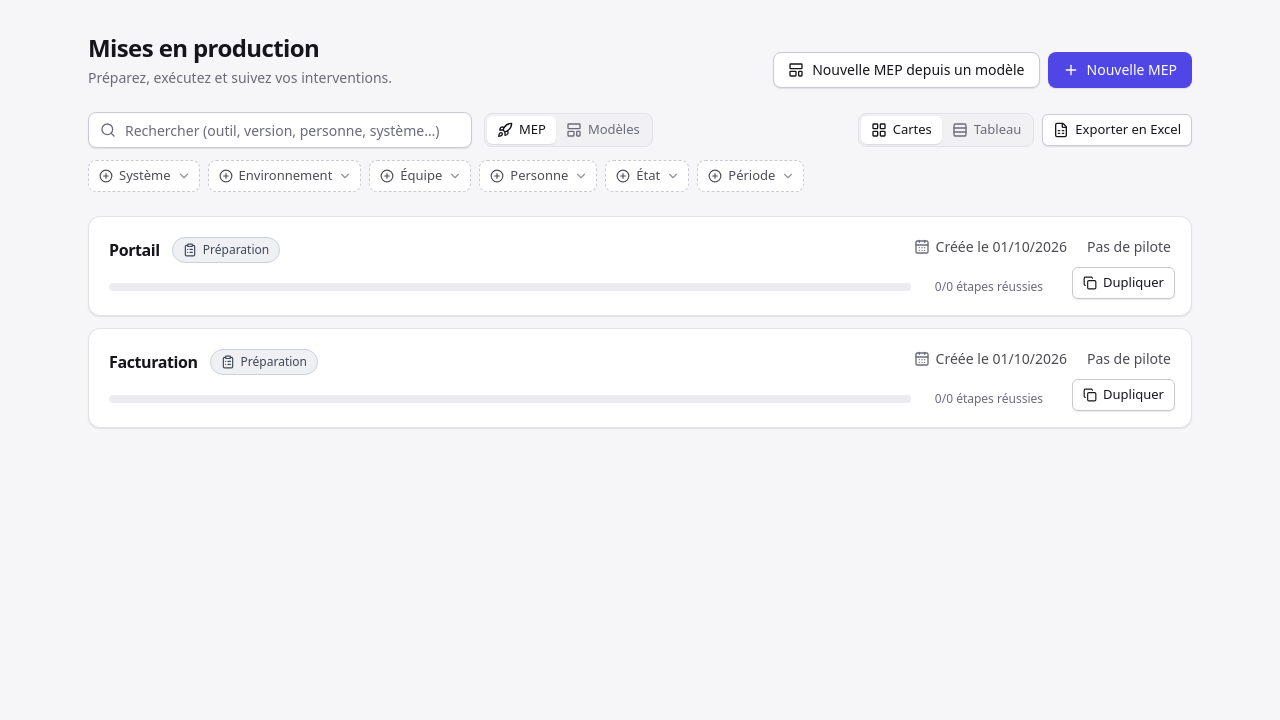
Test: ListeMepPage › filtre les MEP par équipe et trouve une personne par l’un de ses comptes reliés
Check: the link "Facturation" is shown, box [109,350,198,374]
Click the button "Équipe" at (420, 176), box [370,161,470,191]
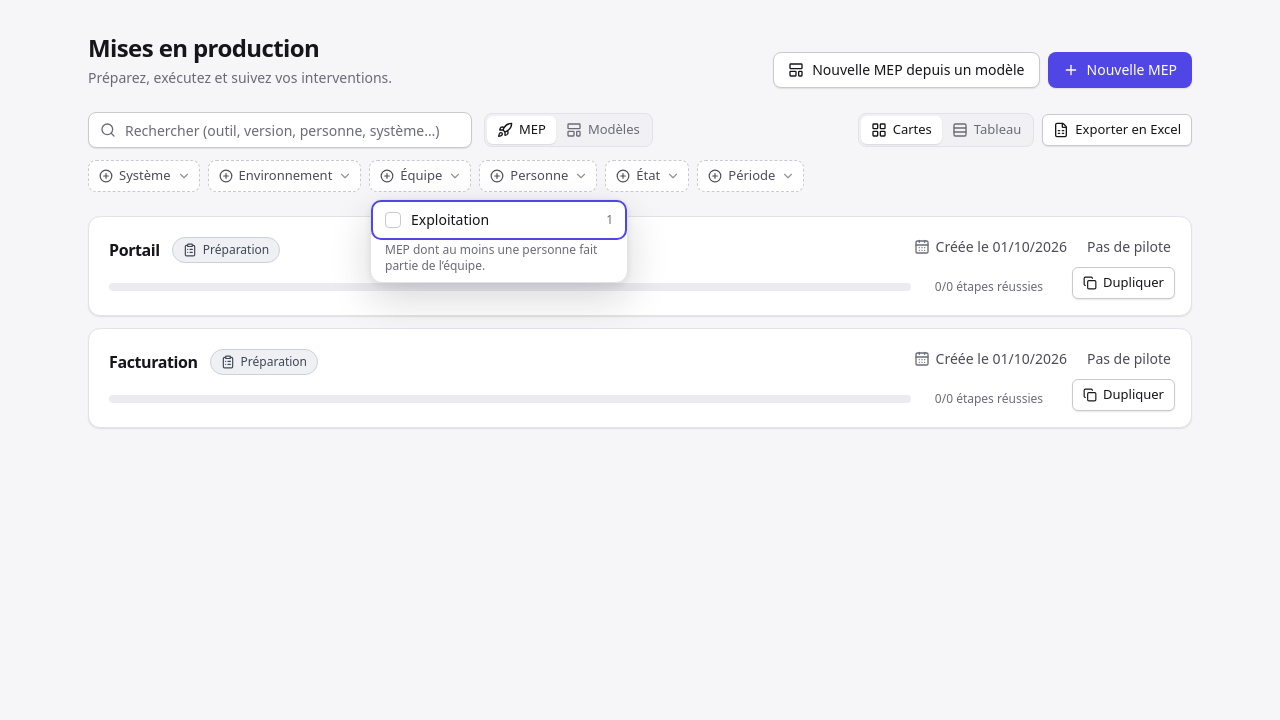
Click the menu item "Exploitation 1" at (499, 220), box [375,204,623,236]
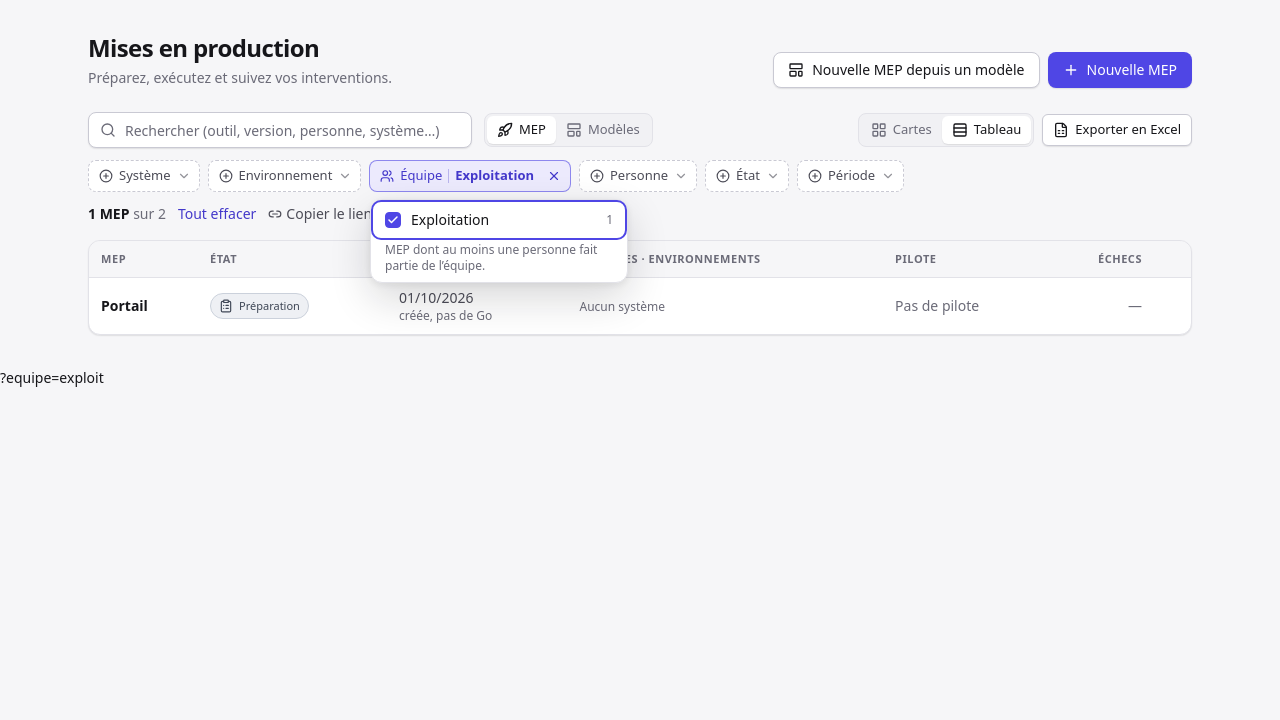
Check: the link "Portail" is shown, box [101,296,148,316]
Check: the link "Facturation" is gone
Check: the text named "adresse" reads "?equipe=exploit", box [0,368,104,387]
Press Escape
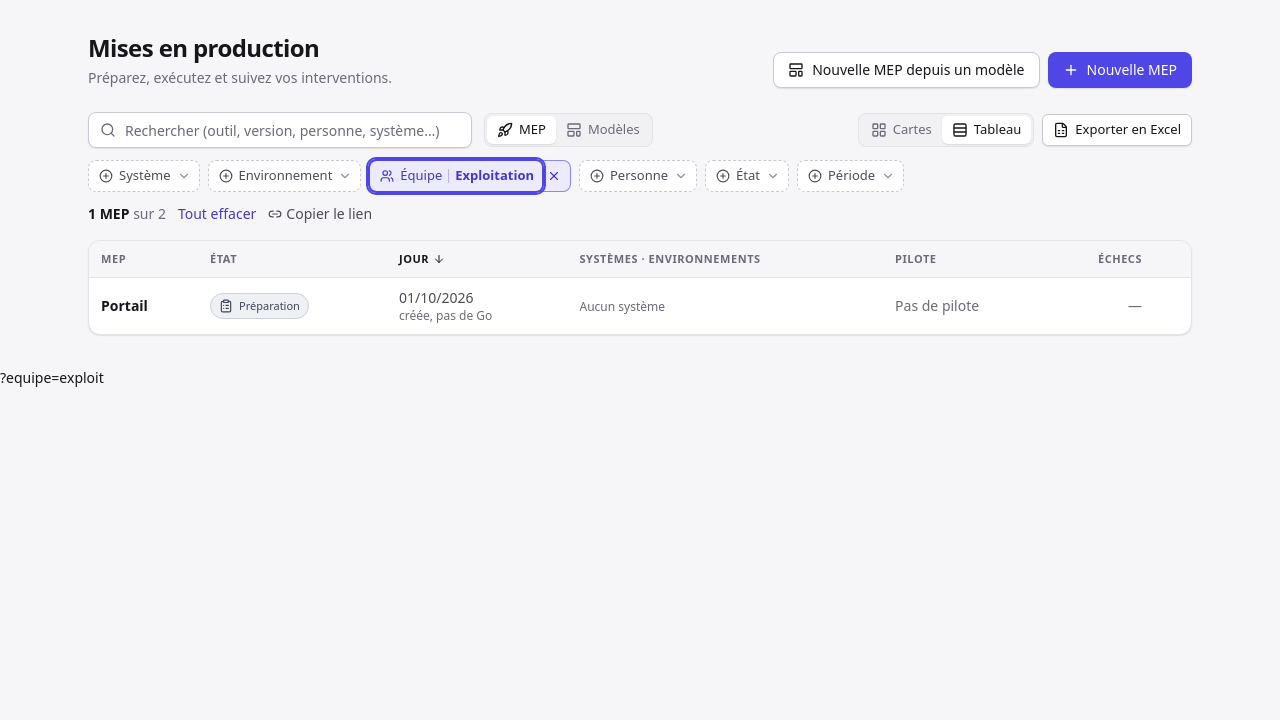
Click the button named "Effacer le filtre Équipe" at (554, 176), box [542,164,566,188]
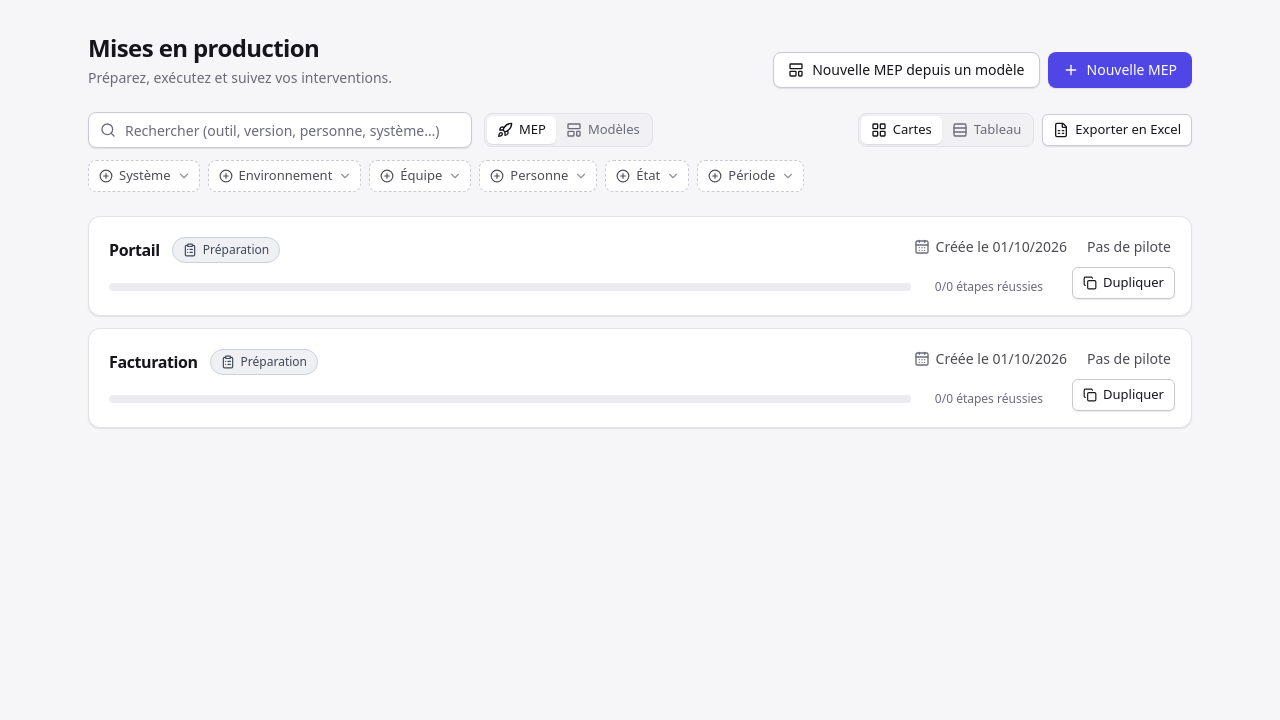
Type "jean.dupont" into the field named "Rechercher une MEP" at (280, 130), box [88,112,472,148]
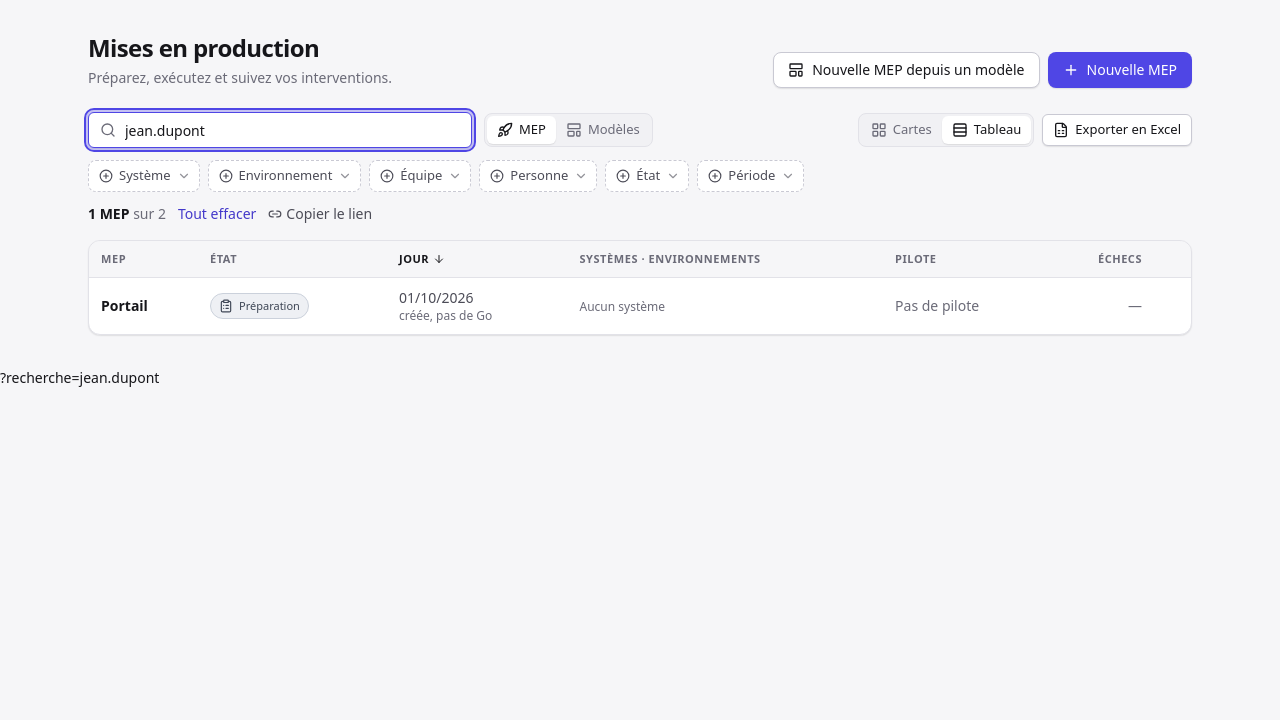
Check: the link "Portail" is shown, box [101,296,148,316]
Check: the link "Facturation" is gone
